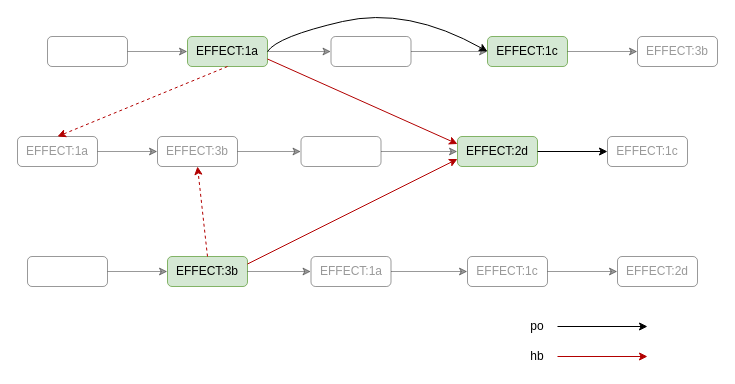
This 735x384 diagram has some shape labels left out. The centre of each missing label's shape, as x and y in pixels:
PREPARE:1a: the point at 87,51
PREPARE:1c: the point at 370,51
PREPARE:2d: the point at 340,151
PREPARE:3b: the point at 67,271
